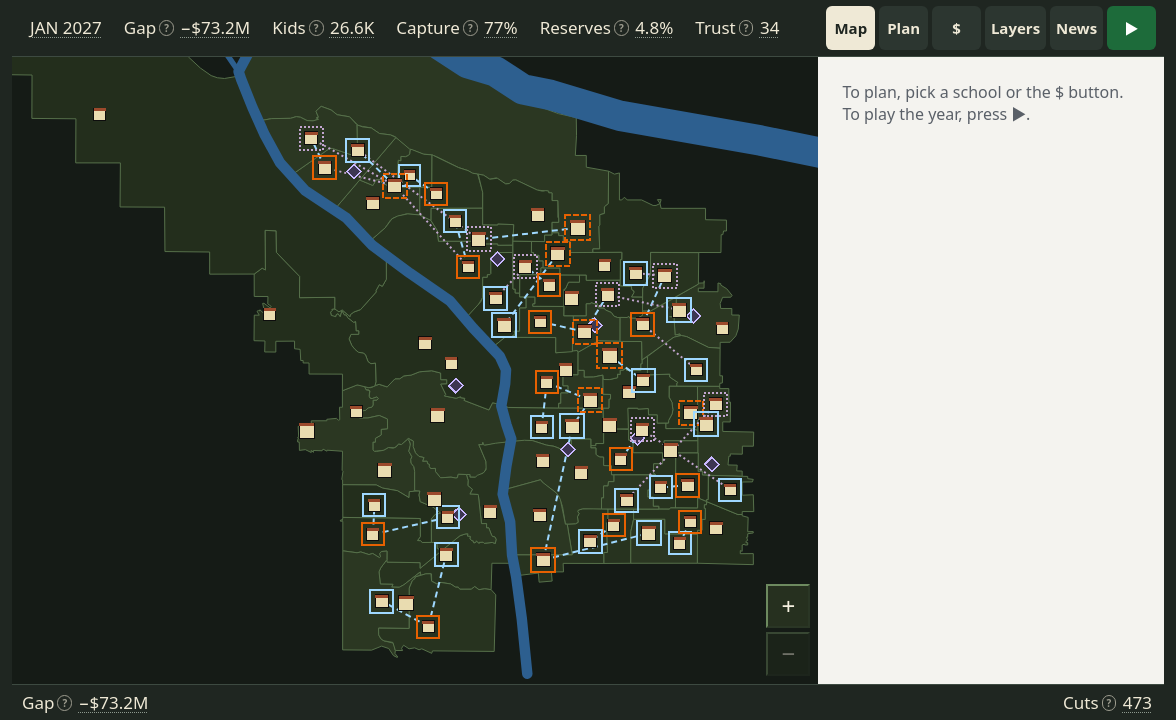
Test: App › Send 6–8 › marks only the drafted change and paints 6-8 into the receiver of a converting K-8
The image size is (1176, 720).
Click the button "Plan". click: click(904, 28)
box: [879, 6, 928, 50]
(page scrolled)
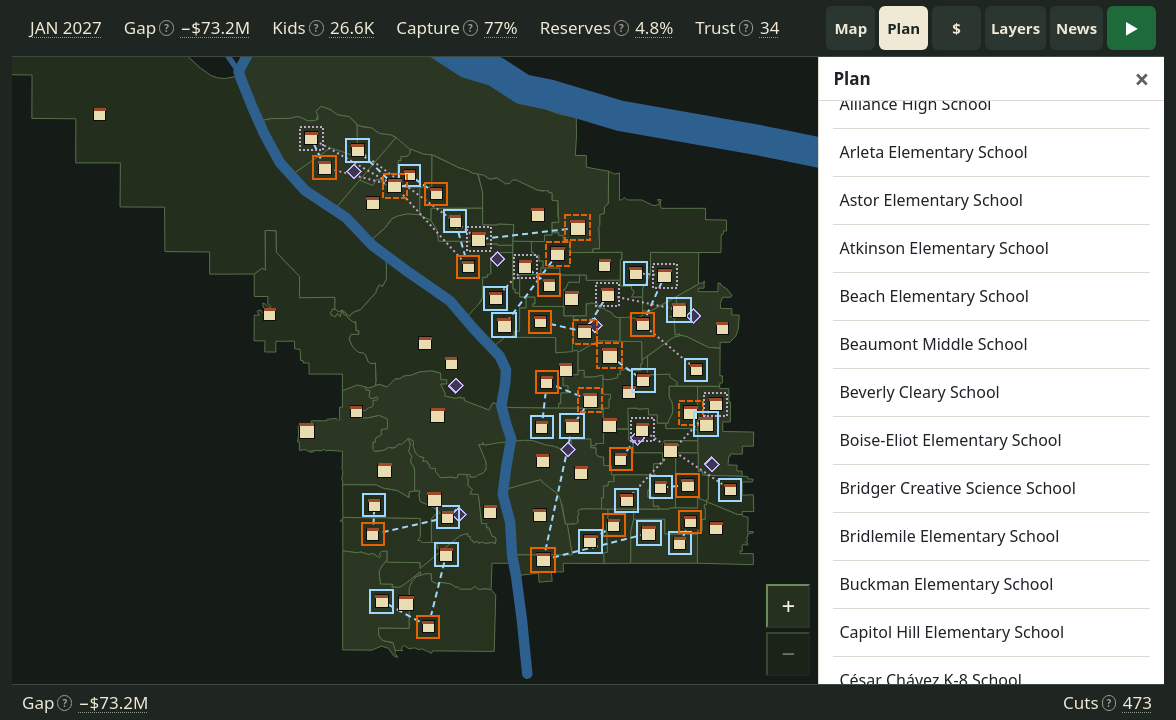
Click the button "Beverly Cleary School". click: click(992, 393)
box: [833, 369, 1150, 417]
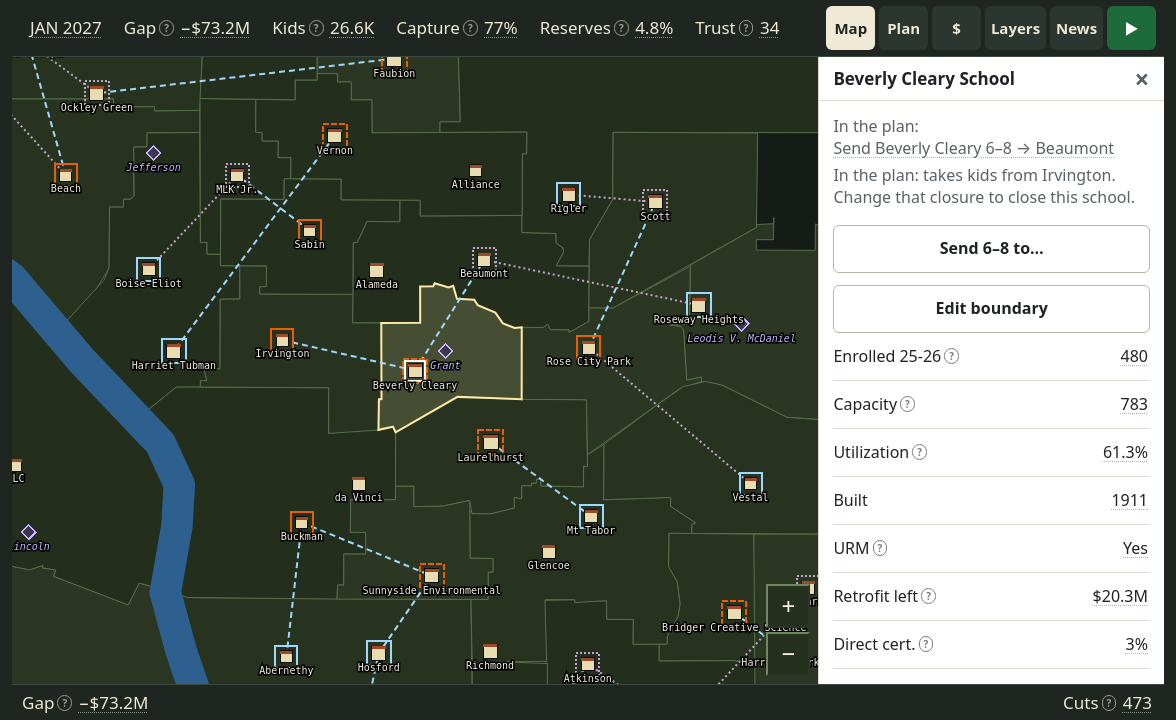
Click the button "Send 6–8 to…". click: click(992, 249)
box: [833, 225, 1150, 273]
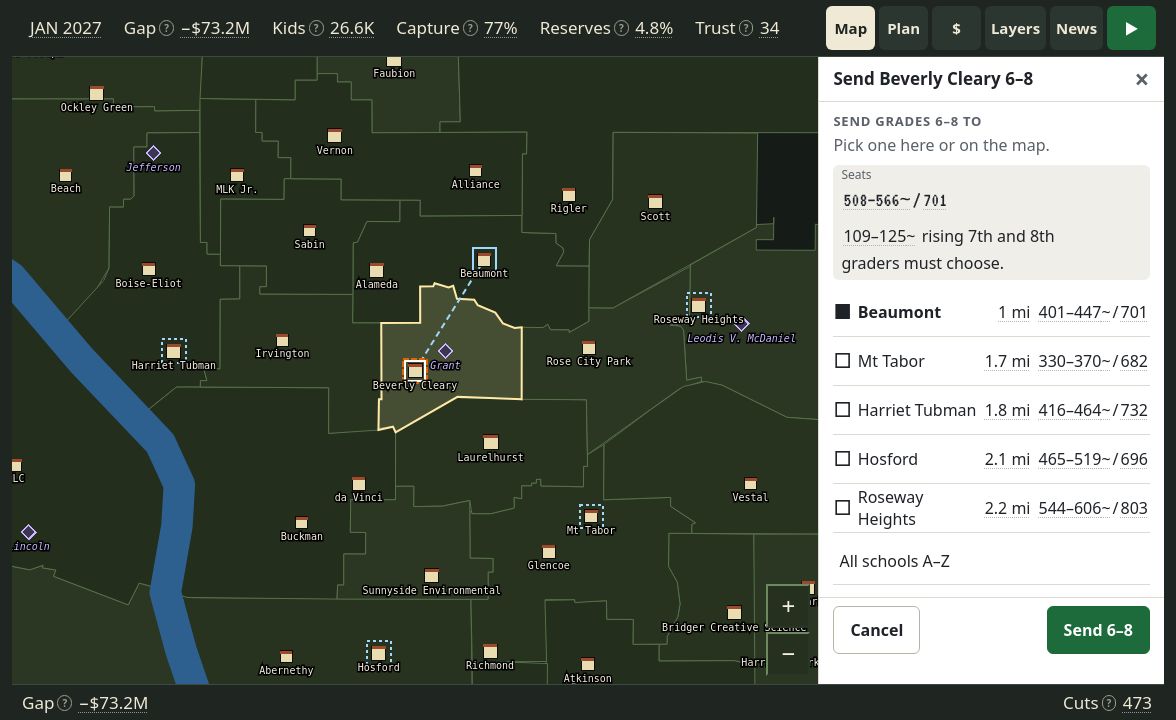
Click the button "Cancel". click: click(877, 630)
box: [833, 606, 920, 654]
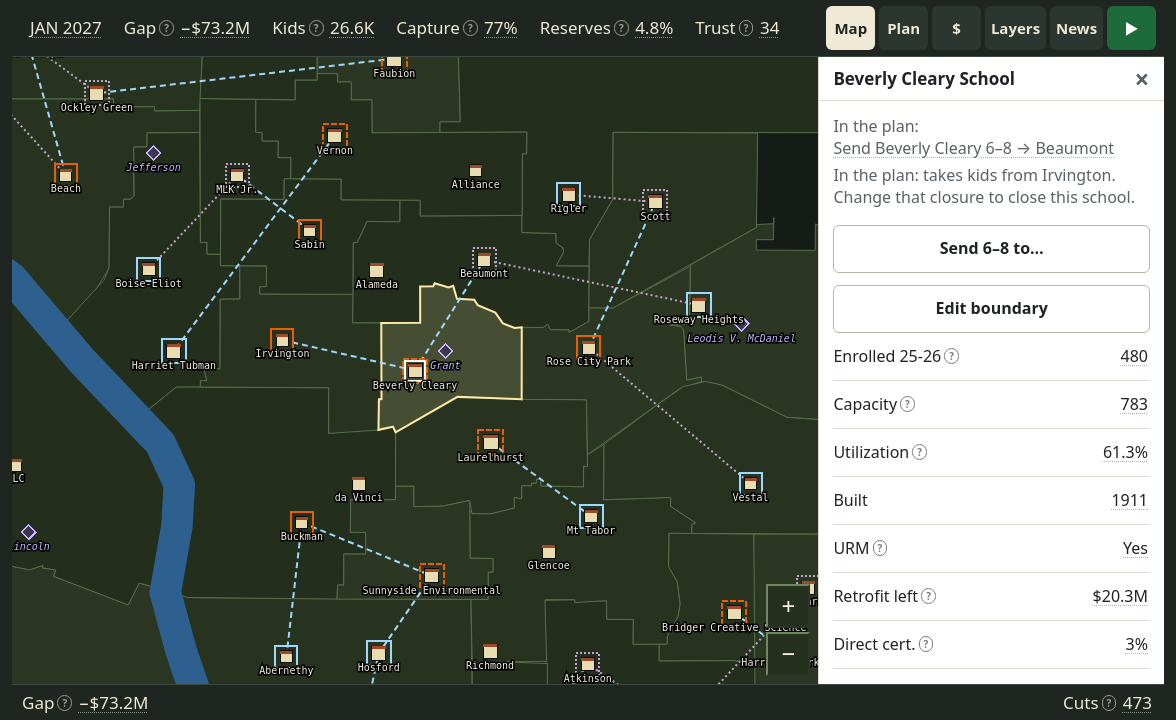
Click the button "Edit boundary". click: click(992, 309)
box: [833, 285, 1150, 333]
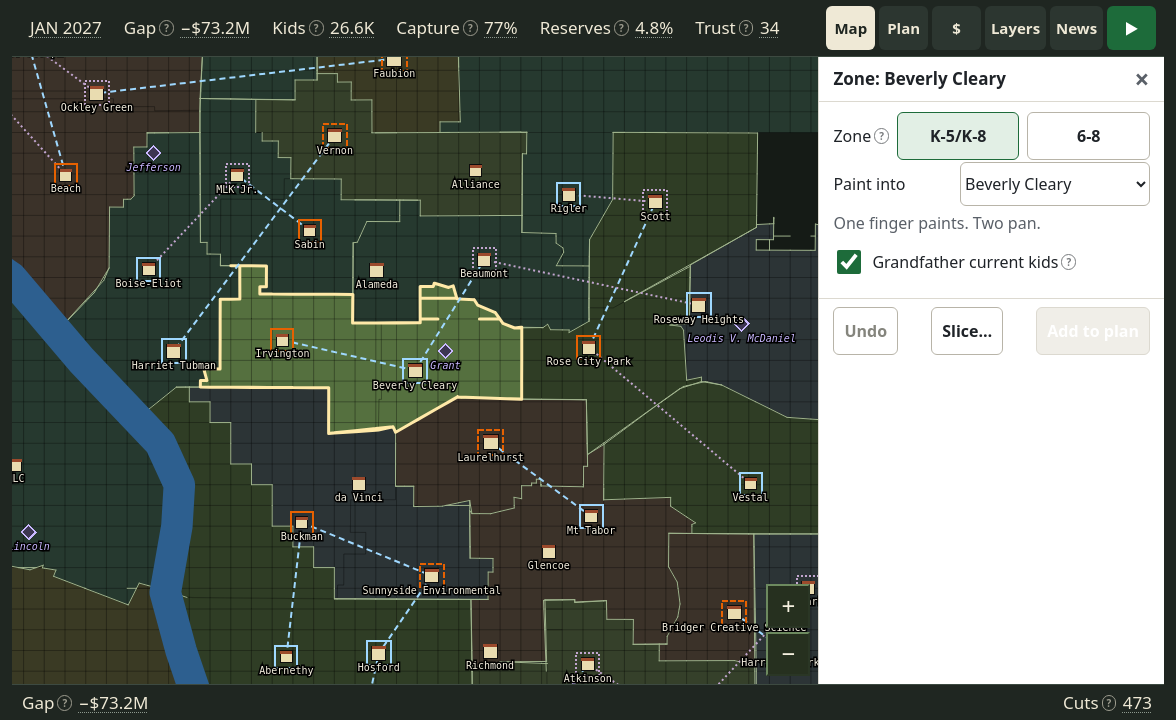
Click the button "6-8". click: click(1089, 136)
box: [1028, 112, 1150, 160]
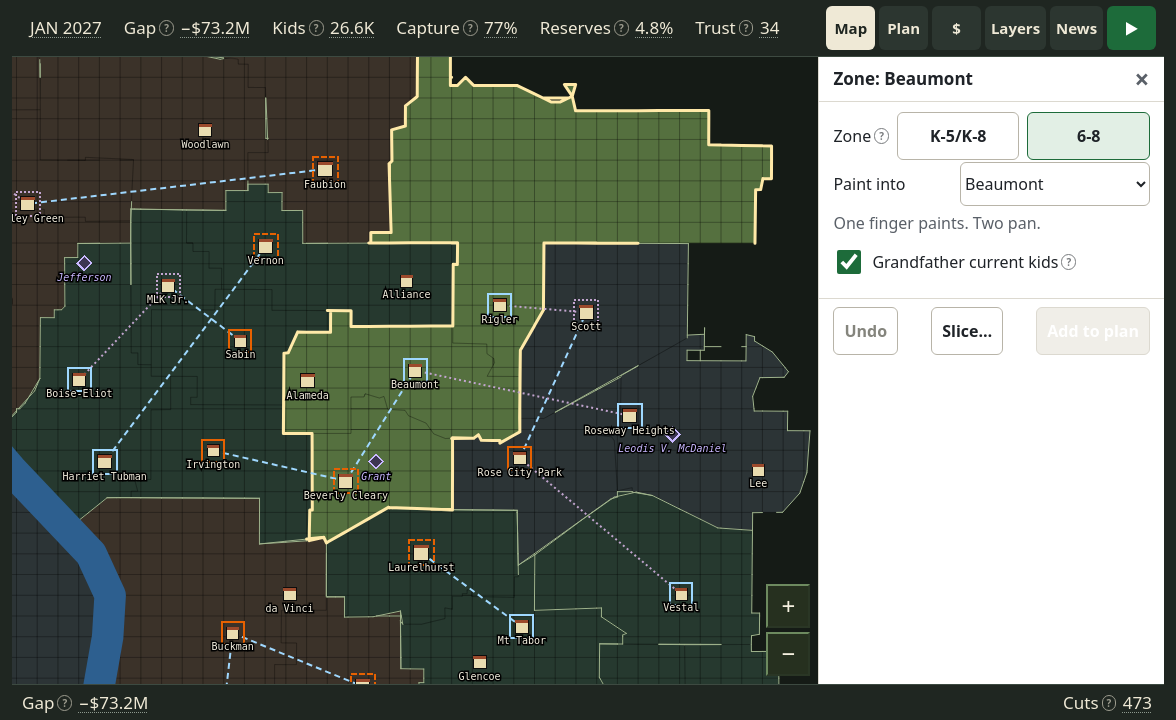
Check: the element "Zone: Beaumont" is shown, box [818, 57, 1164, 684]
